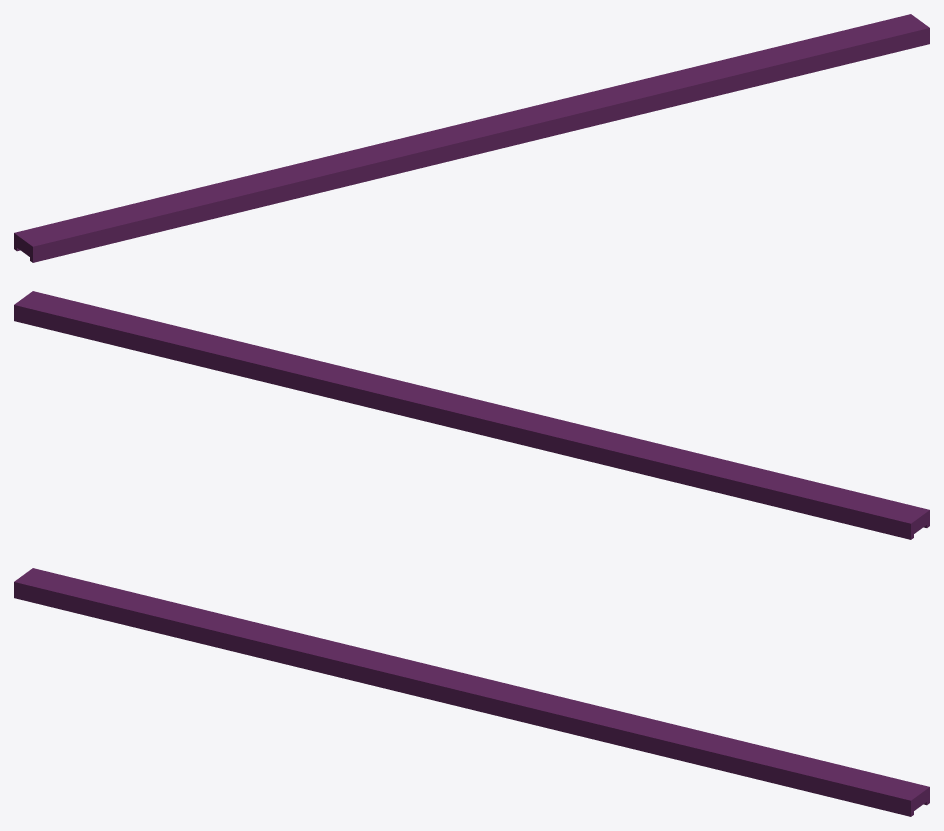
Rendered from Riel_Arriba.fbx.
3 renders of one model, top to bottom at view 1: azimuth 30°, elevation 25°; view 2: azimuth 150°, elevation 25°; view 3: azimuth 330°, elevation 25°, orthographic.
Visible parts, largest first — view 1: pCube5; view 2: pCube5; view 3: pCube5.
Boxes of the visible parts, x1,y1,x2,y2 form: pCube5: (14, 14, 929, 262); pCube5: (14, 291, 929, 539); pCube5: (14, 568, 929, 816).
Size of the model in its own units: 13.81 by 0.2384 by 0.5051.
